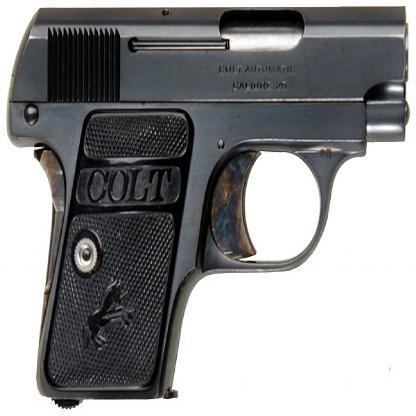gun: (1, 0, 416, 410)
